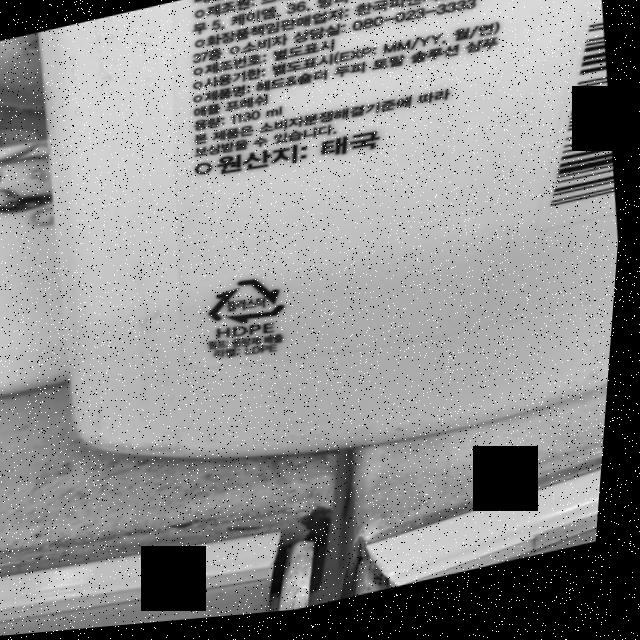Plastic: (205, 271, 298, 339)
